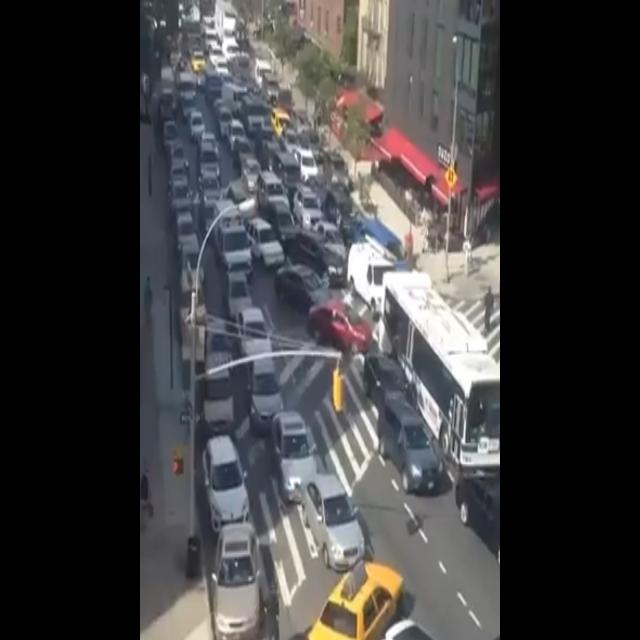Ambulance: (210, 194, 257, 286)
